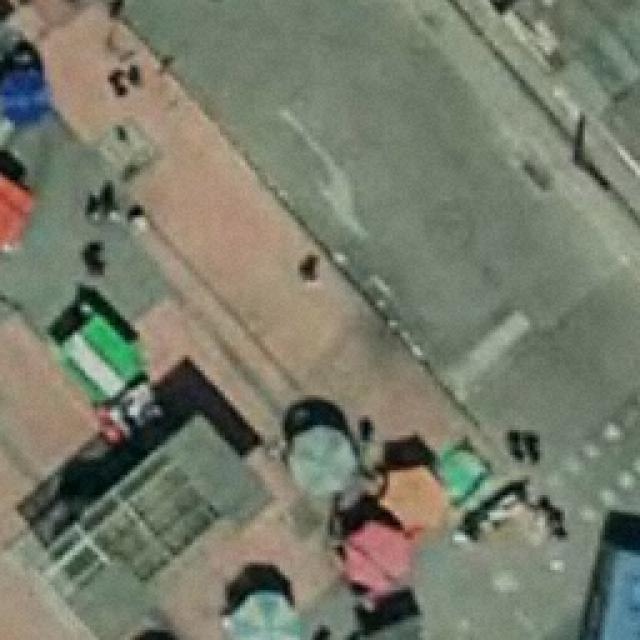vendedor_ambulante: (376, 460, 452, 536), (338, 521, 416, 595), (284, 420, 356, 497), (217, 587, 304, 640), (0, 62, 58, 128)
